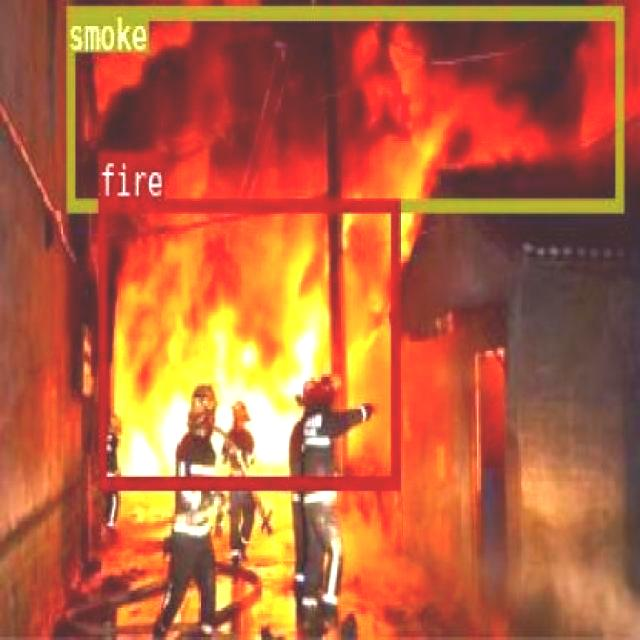fire: (98, 197, 397, 486)
smoke: (65, 4, 621, 208)
